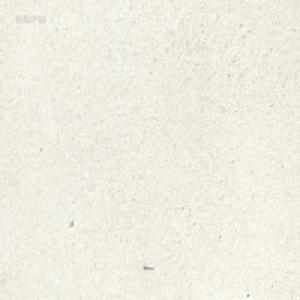Nail: (142, 262, 153, 270)
